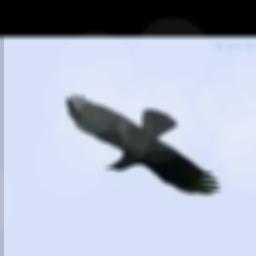Crow: (65, 94, 220, 195)
